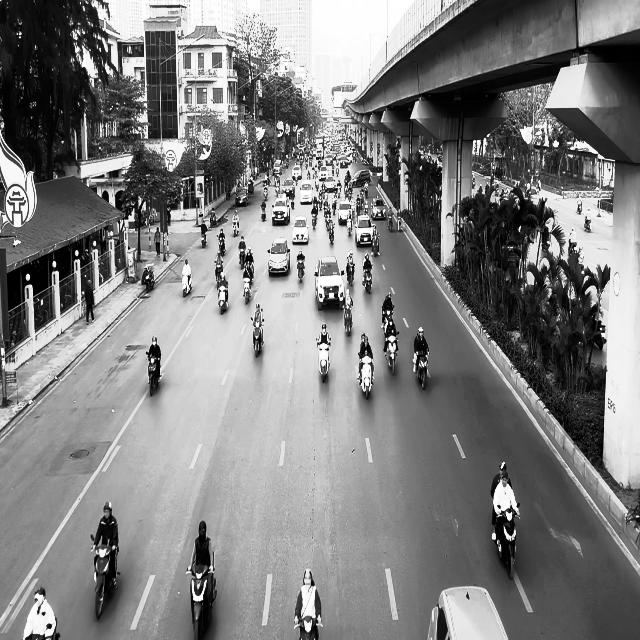car: (427, 585, 509, 639), (314, 255, 345, 310), (267, 237, 290, 276), (354, 215, 376, 247), (271, 197, 290, 226), (292, 216, 308, 244), (338, 200, 352, 225), (371, 197, 386, 219), (300, 179, 312, 204), (235, 187, 249, 206), (282, 178, 294, 196), (324, 175, 335, 191)
motorbike: (186, 550, 217, 639), (90, 533, 120, 620), (493, 501, 520, 579), (357, 351, 374, 399), (316, 336, 331, 382), (146, 352, 161, 396), (384, 331, 399, 375), (294, 615, 320, 640), (413, 350, 429, 389), (250, 314, 264, 356), (242, 269, 253, 304), (217, 282, 229, 314), (343, 300, 353, 336), (143, 264, 154, 292), (362, 266, 372, 294), (296, 255, 305, 283), (182, 273, 192, 297), (214, 258, 223, 283), (217, 235, 225, 256), (347, 263, 354, 286), (238, 248, 246, 268), (328, 222, 335, 243), (584, 216, 592, 232), (232, 218, 239, 236), (201, 231, 207, 248), (261, 202, 266, 221)
